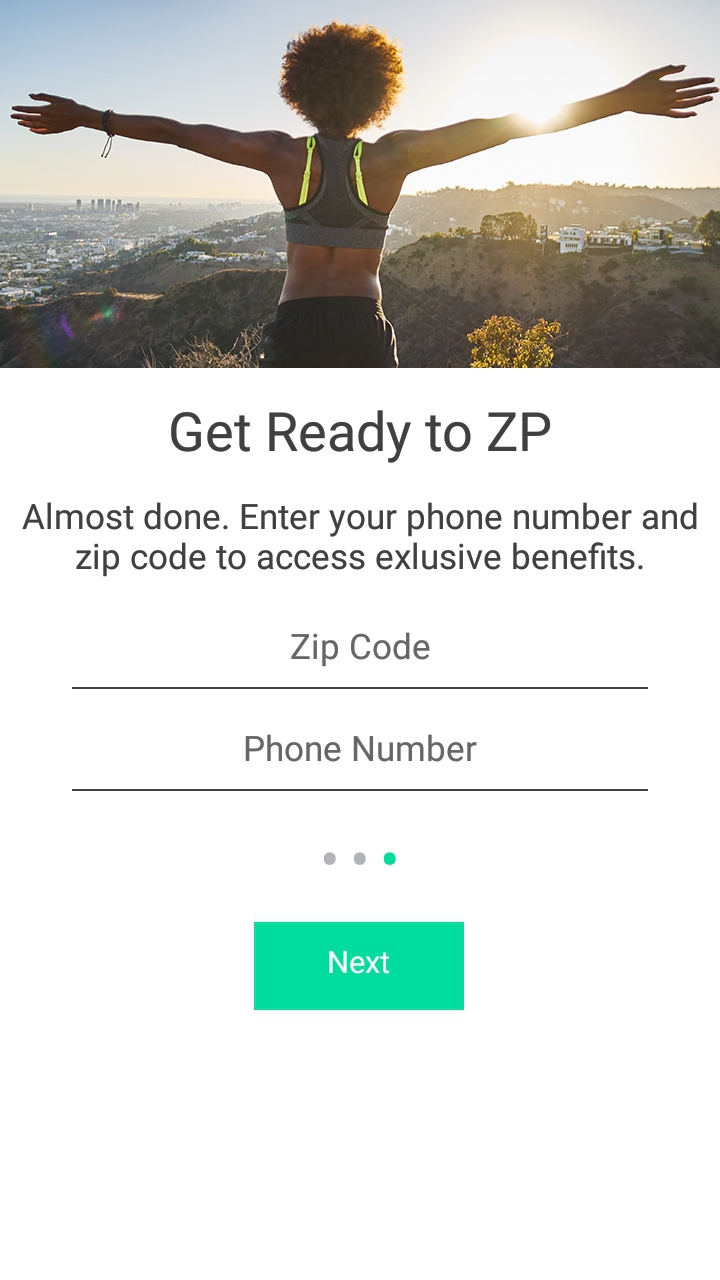EditText: (73, 631, 649, 690), (72, 734, 649, 792)
Image: (1, 1, 720, 369)
PageIndicator: (323, 851, 397, 866)
Text: (23, 502, 698, 578), (171, 409, 552, 464), (244, 734, 477, 762), (291, 631, 430, 667)
TextButton: (254, 922, 465, 1011)
